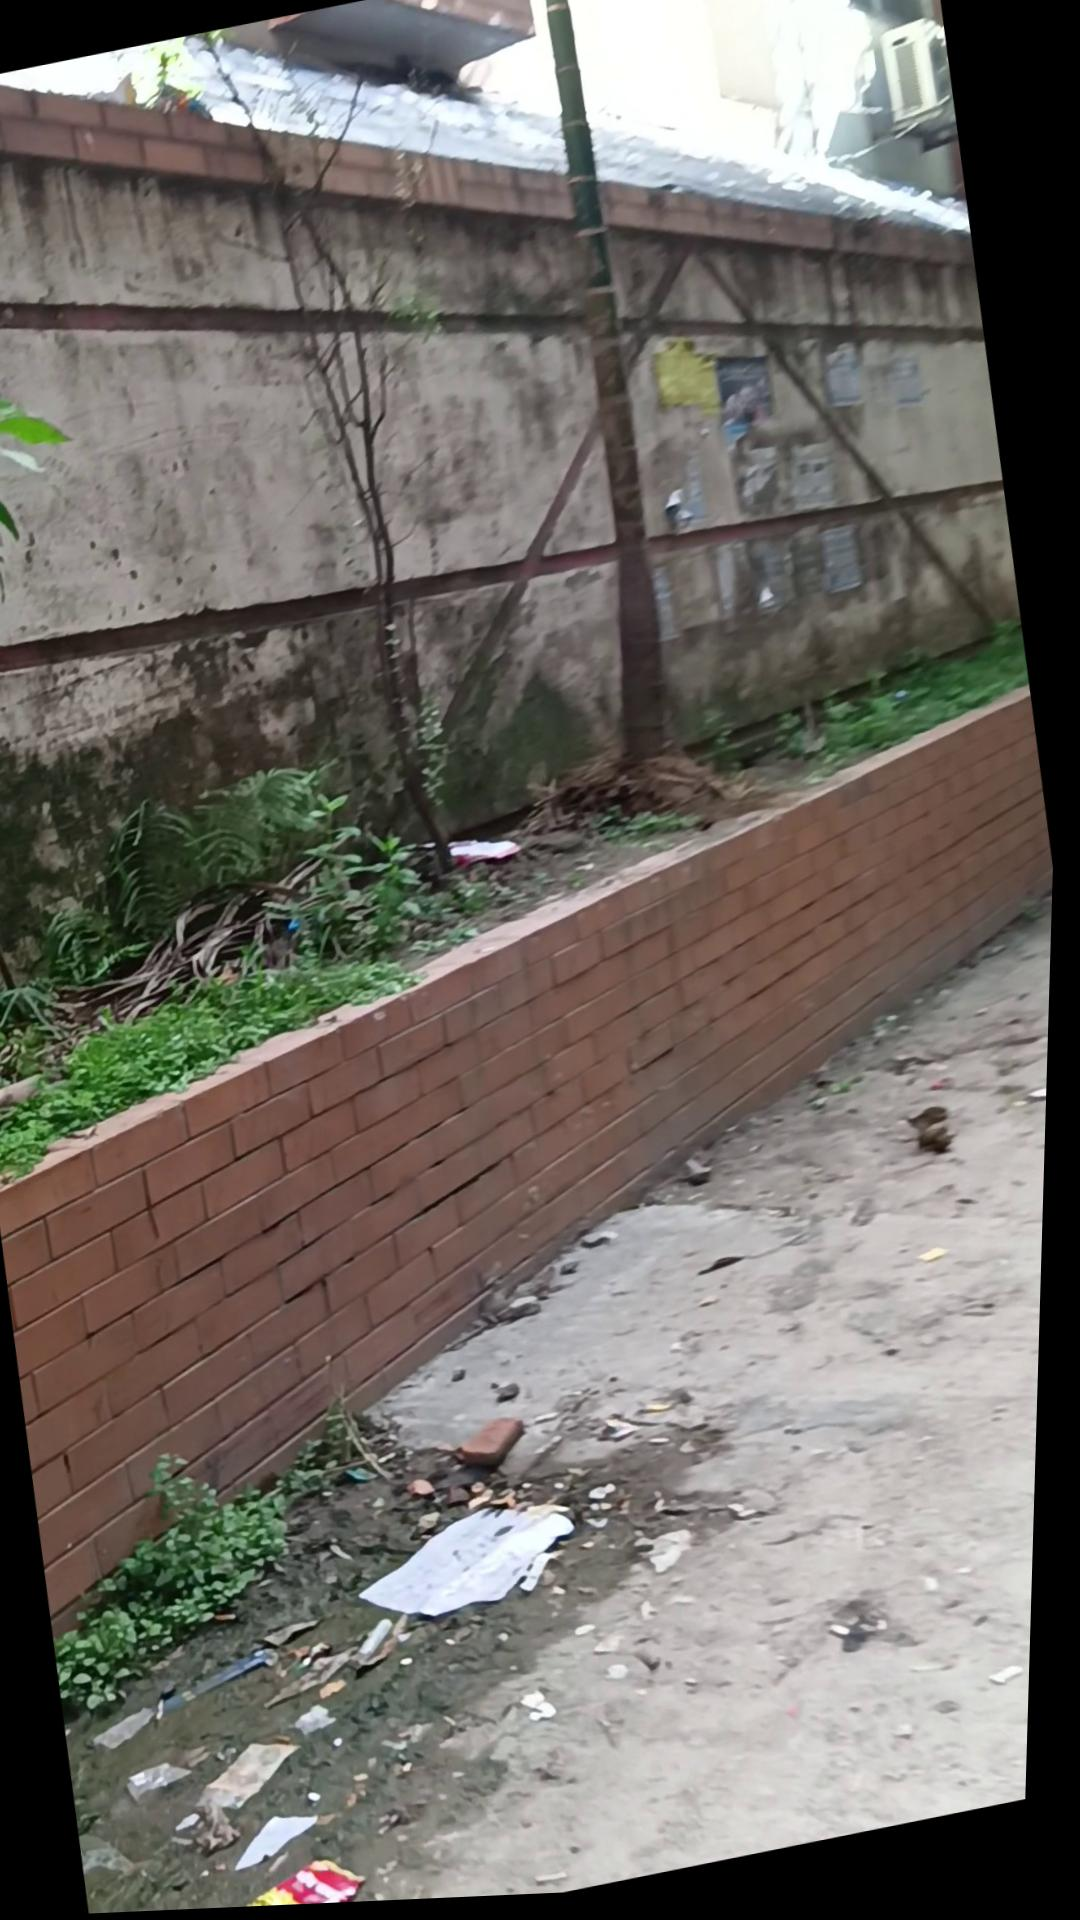Broken-road: (0, 913, 1058, 1920)
Tree: (0, 0, 1065, 998), (0, 688, 1063, 1640)
